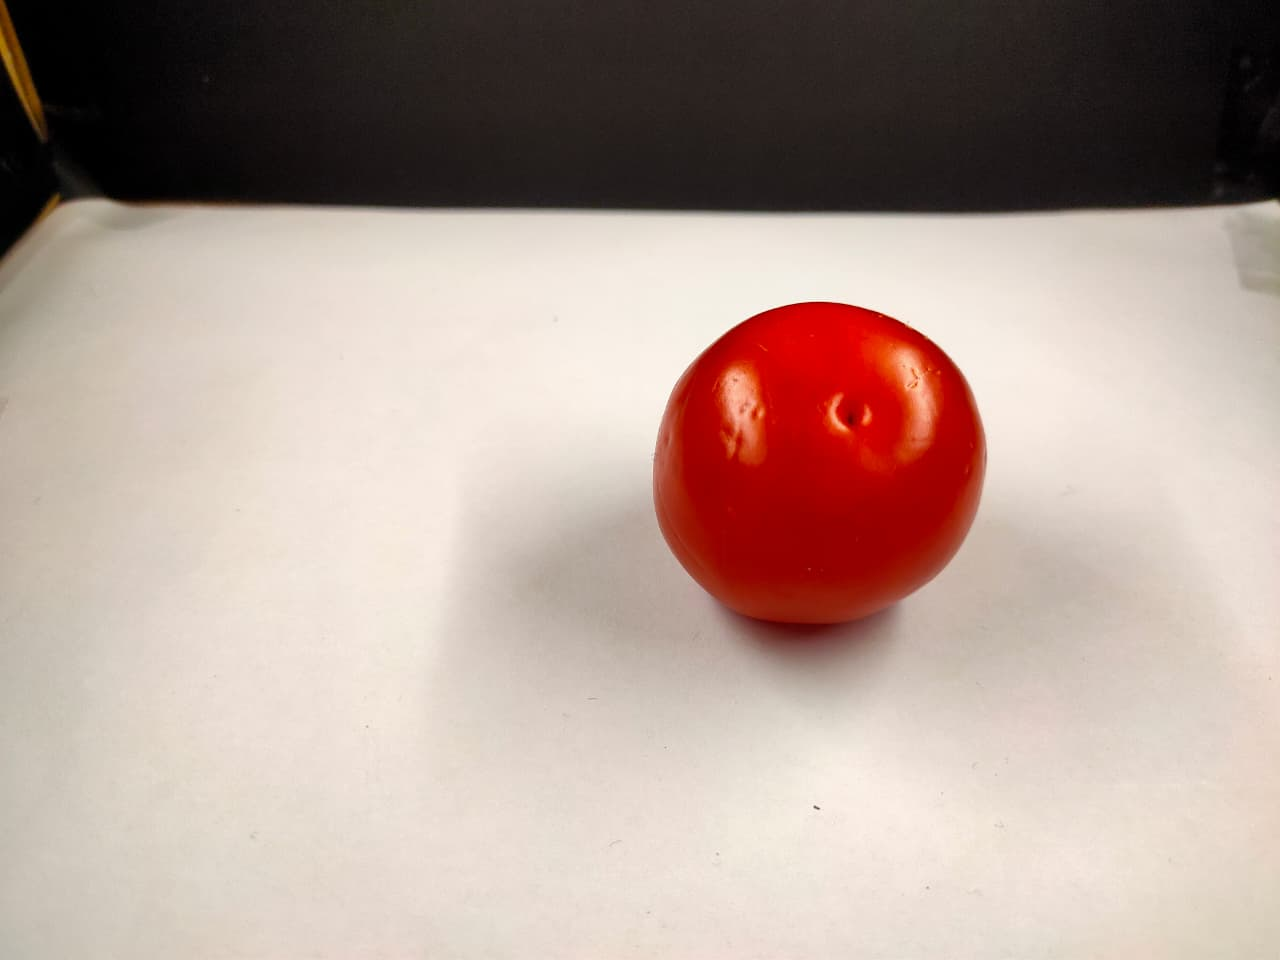ripe: (649, 284, 993, 633)
